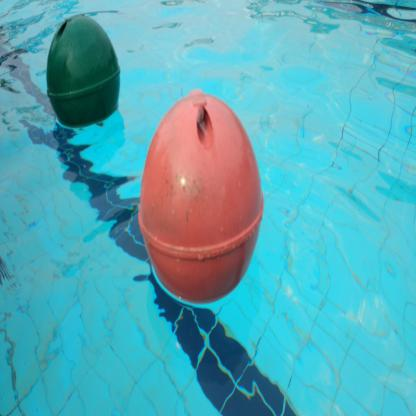green_buoy: (42, 8, 126, 138)
red_buoy: (132, 74, 273, 318)
